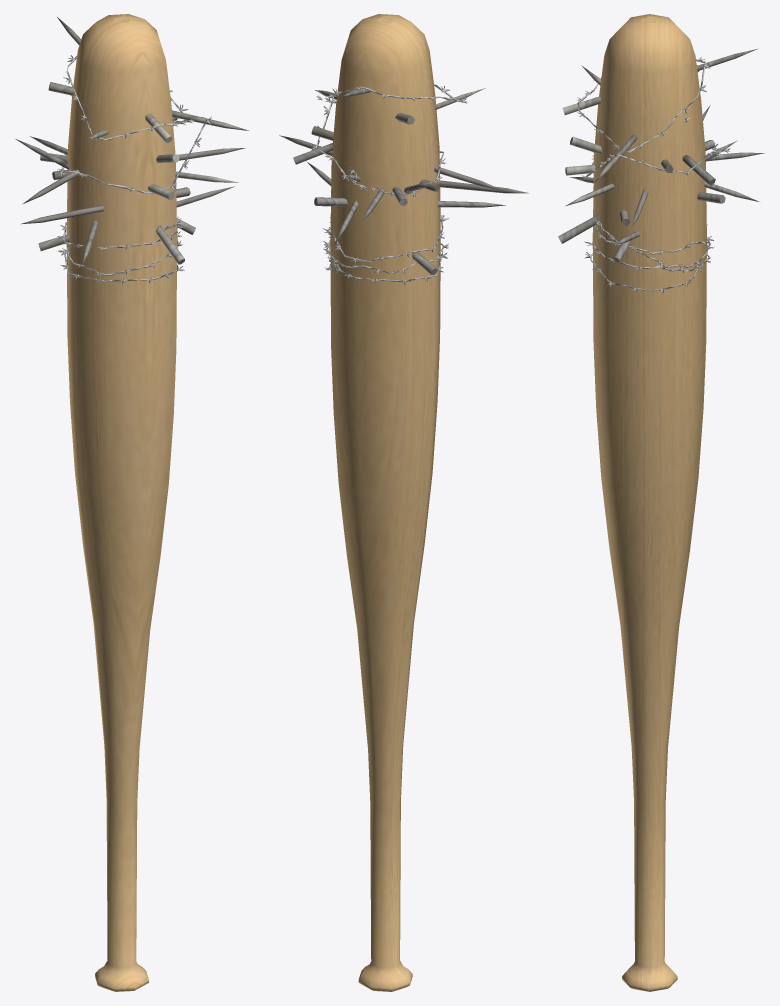
The model's file is BaseballBatOptimized.FBX.
3 renders of one model, left to right at view 1: azimuth 30°, elevation 25°; view 2: azimuth 150°, elevation 25°; view 3: azimuth 270°, elevation 25°, orthographic.
Visible parts, largest first — view 1: Pesismaila; view 2: Pesismaila; view 3: Pesismaila.
Boxes of the visible parts, x1=… form: Pesismaila: x1=15, y1=14, x2=248, y2=991; Pesismaila: x1=279, y1=14, x2=528, y2=991; Pesismaila: x1=558, y1=14, x2=764, y2=991.
Bounding box in the file's own units: 47.51 × 183 × 35.82.
